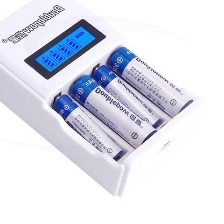battery: (105, 43, 197, 119), (67, 72, 158, 148), (52, 90, 123, 165), (90, 61, 163, 129)
